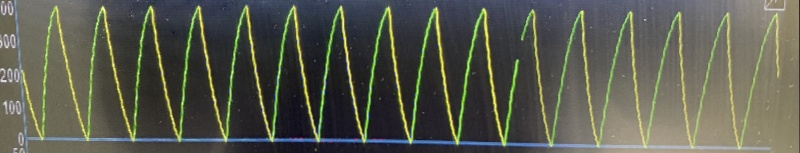normal_volume: (32, 2, 744, 149)
